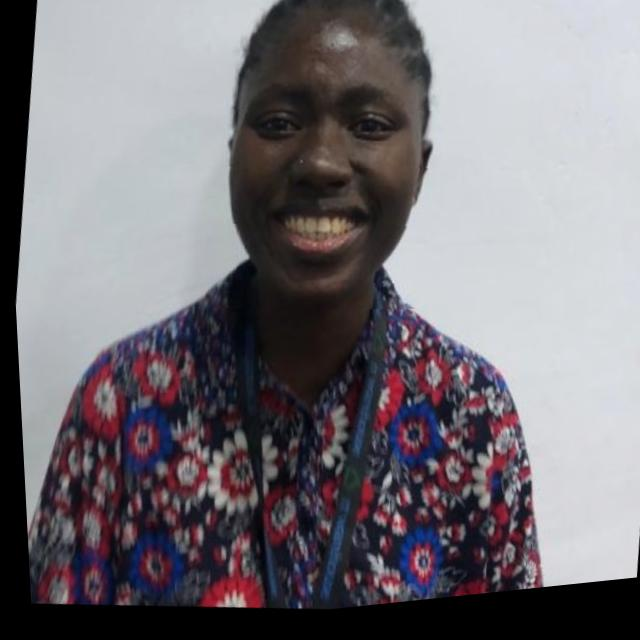happy: (194, 0, 461, 337)
